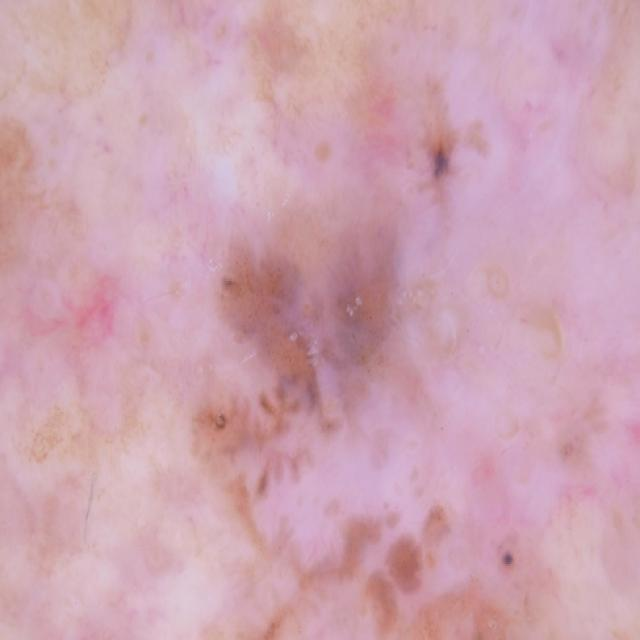Carcinoma: (125, 192, 633, 640)
